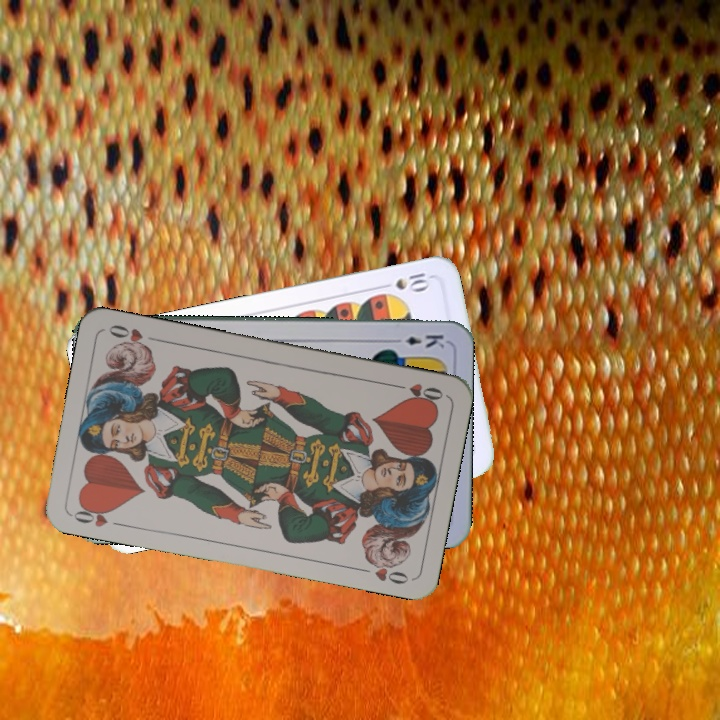EK: (388, 330, 447, 350)
HO: (68, 499, 127, 530), (388, 379, 446, 406)
S10: (391, 268, 432, 294)
